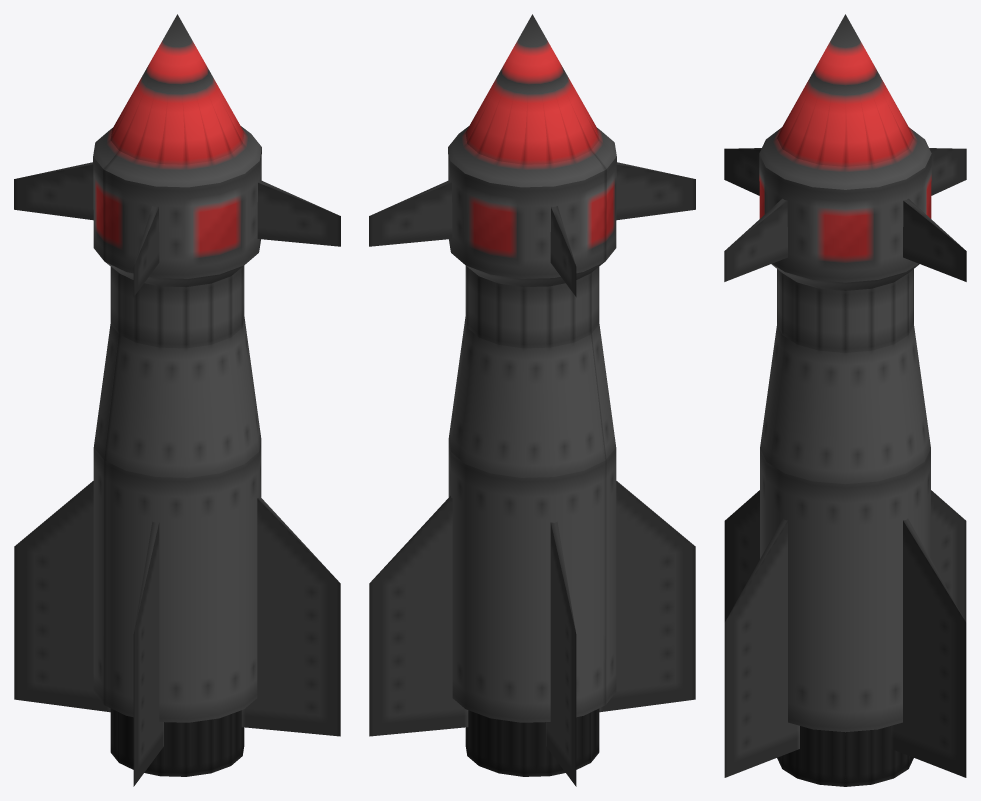
File: missile_buster_strong.obj
The picture shows the model from 3 angles, left to right: view 1: azimuth 30°, elevation 25°; view 2: azimuth 150°, elevation 25°; view 3: azimuth 270°, elevation 25°; orthographic projection.
Parts seen in each view (by area): view 1: missile_buster_strong; view 2: missile_buster_strong; view 3: missile_buster_strong.
Part boxes in pixels (x1=…): missile_buster_strong: x1=14, y1=14, x2=340, y2=786; missile_buster_strong: x1=369, y1=14, x2=695, y2=786; missile_buster_strong: x1=724, y1=14, x2=966, y2=786.
Size of the model in its own units: 1.77 by 6 by 1.77.
